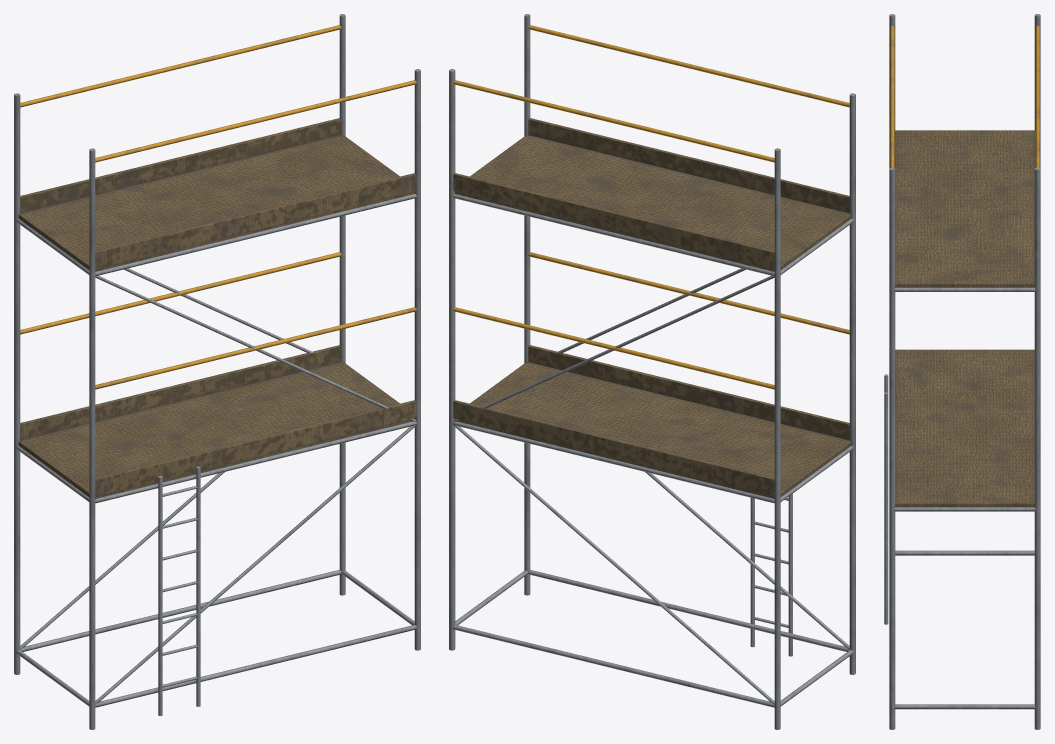
Rendered from budowa_rusztowanie.glb.
The picture shows the model from 3 angles, left to right: view 1: azimuth 30°, elevation 25°; view 2: azimuth 150°, elevation 25°; view 3: azimuth 270°, elevation 25°; orthographic projection. The views are drawn at different scales.
Parts seen in each view (by area): view 1: Rusztowanie; view 2: Rusztowanie; view 3: Rusztowanie.
Boxes of the visible parts, x1=… form: Rusztowanie: x1=14, y1=14, x2=420, y2=729; Rusztowanie: x1=449, y1=14, x2=855, y2=729; Rusztowanie: x1=884, y1=14, x2=1040, y2=729.
Bounding box in the file's own units: 3.05 × 5.1 × 1.29.
Materials: 1 (1 with a texture image).
